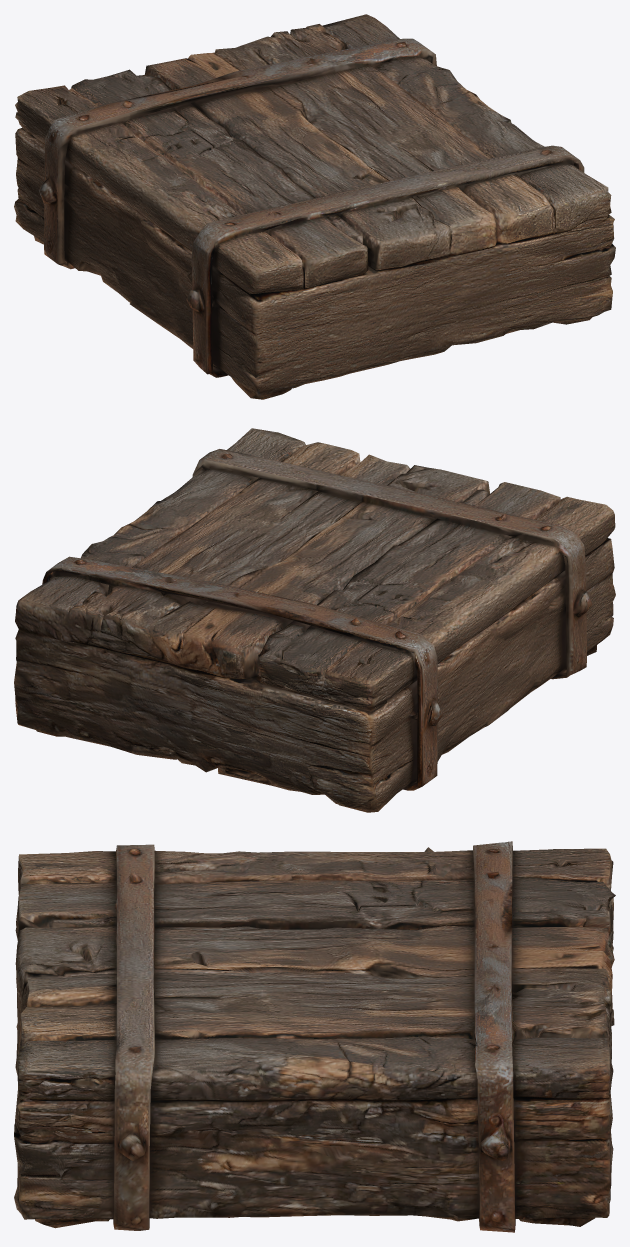
File: cart_lid.glb
The picture shows the model from 3 angles, top to bottom: view 1: azimuth 30°, elevation 25°; view 2: azimuth 150°, elevation 25°; view 3: azimuth 270°, elevation 25°; orthographic projection. The views are drawn at different scales.
Parts seen in each view (by area): view 1: tripo_node_72bf7661-7416-4ff3-8d2a-33299230b8d8; view 2: tripo_node_72bf7661-7416-4ff3-8d2a-33299230b8d8; view 3: tripo_node_72bf7661-7416-4ff3-8d2a-33299230b8d8.
Boxes of the visible parts, box(x1,y1,x2,y2) form: tripo_node_72bf7661-7416-4ff3-8d2a-33299230b8d8: box(14, 14, 615, 399); tripo_node_72bf7661-7416-4ff3-8d2a-33299230b8d8: box(14, 428, 615, 812); tripo_node_72bf7661-7416-4ff3-8d2a-33299230b8d8: box(14, 841, 615, 1232).
Bounding box in the file's own units: 0.9403 × 0.3432 × 1.
1 material, 1 textured.
